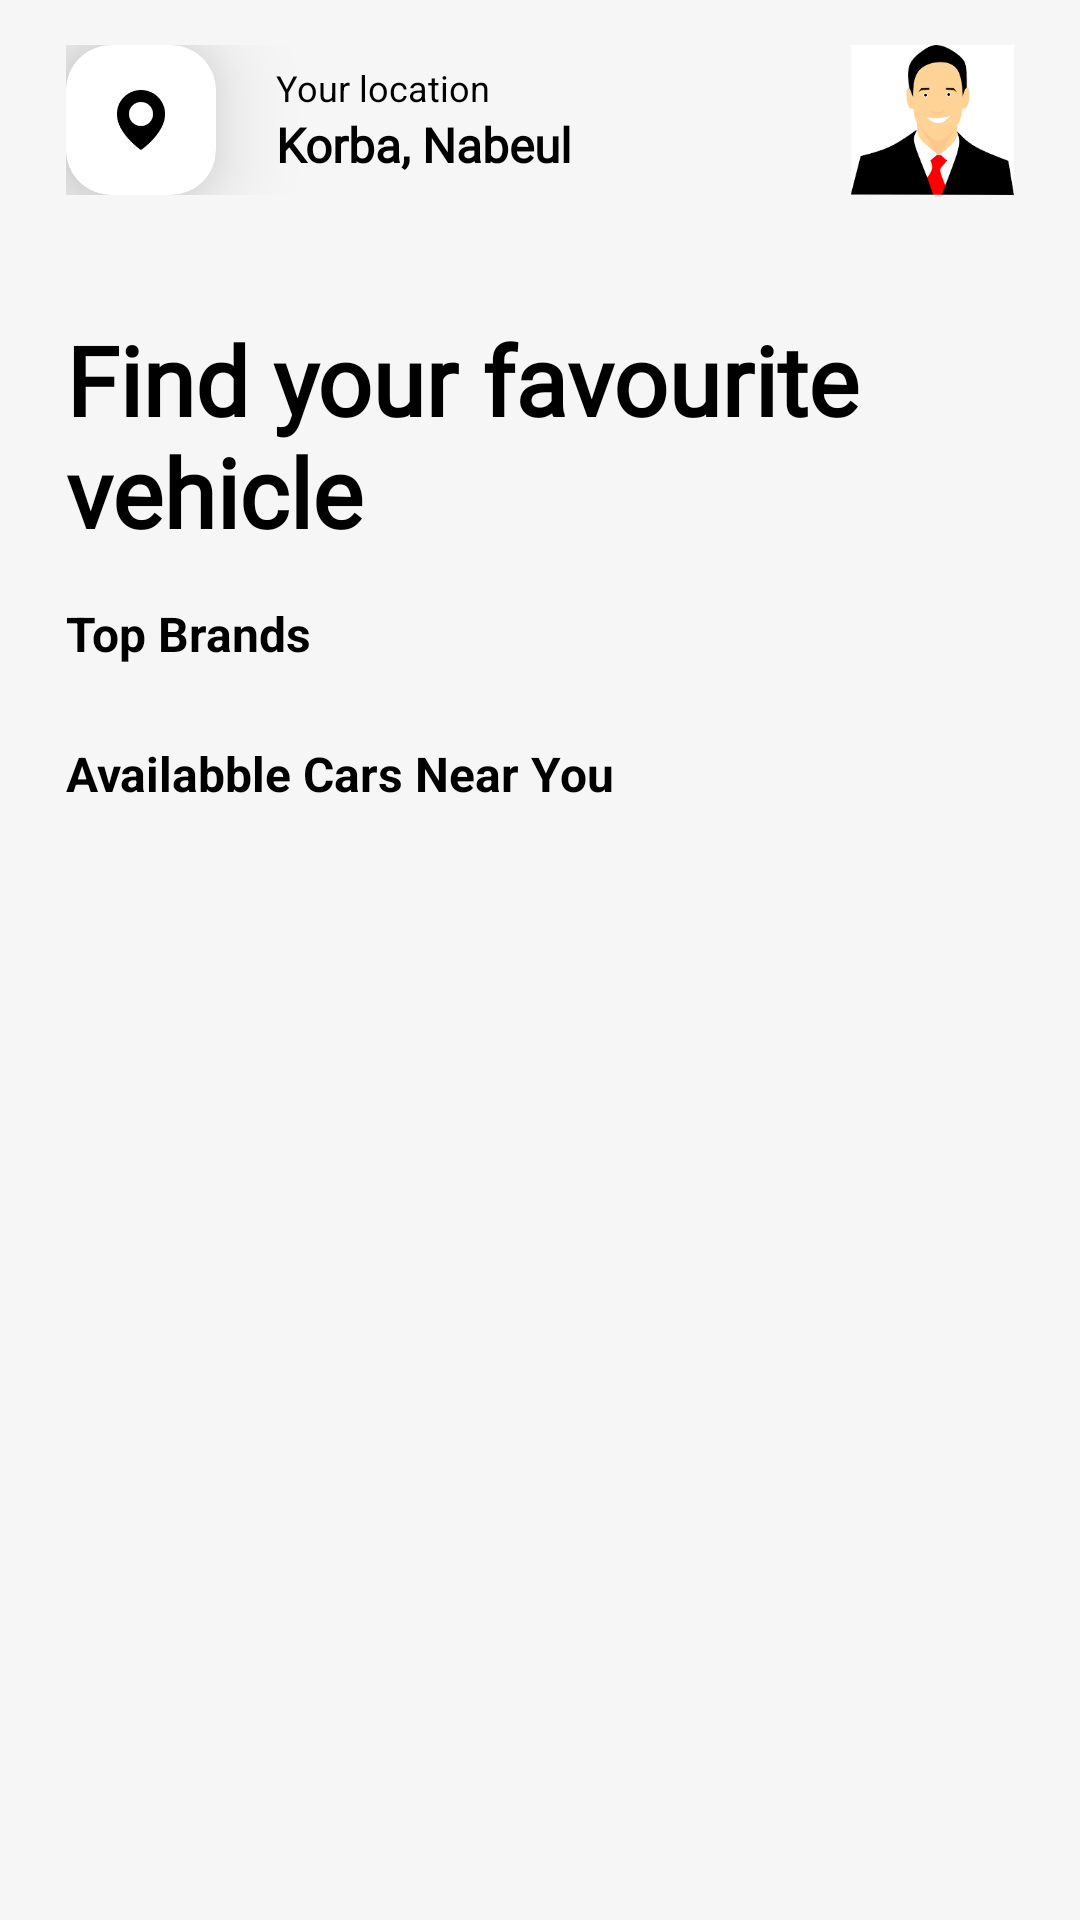

Named icons in this screenshot (1080x1920) and their bounding boxes, (x1, y1, x2, y2):
map: (117, 90, 165, 150)
